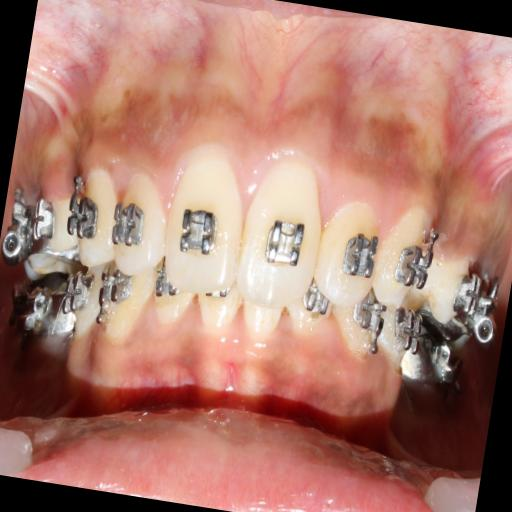correct_brace: (260, 207, 312, 275), (106, 192, 150, 256), (337, 226, 382, 284), (62, 187, 104, 249), (177, 202, 219, 257), (392, 238, 432, 292)
incorrect_brace: (311, 193, 389, 310), (104, 172, 172, 276)
